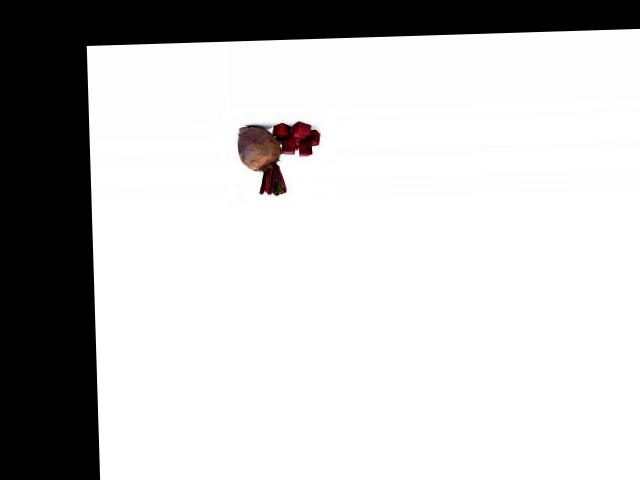beet: (237, 124, 287, 195)
